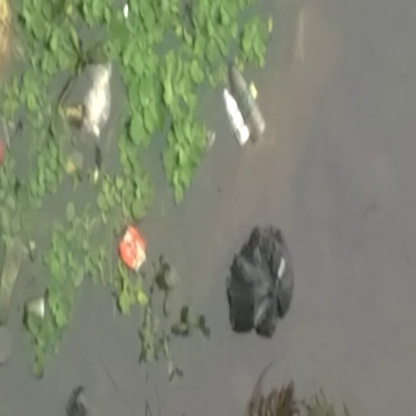plastic-bag: (222, 218, 303, 341)
